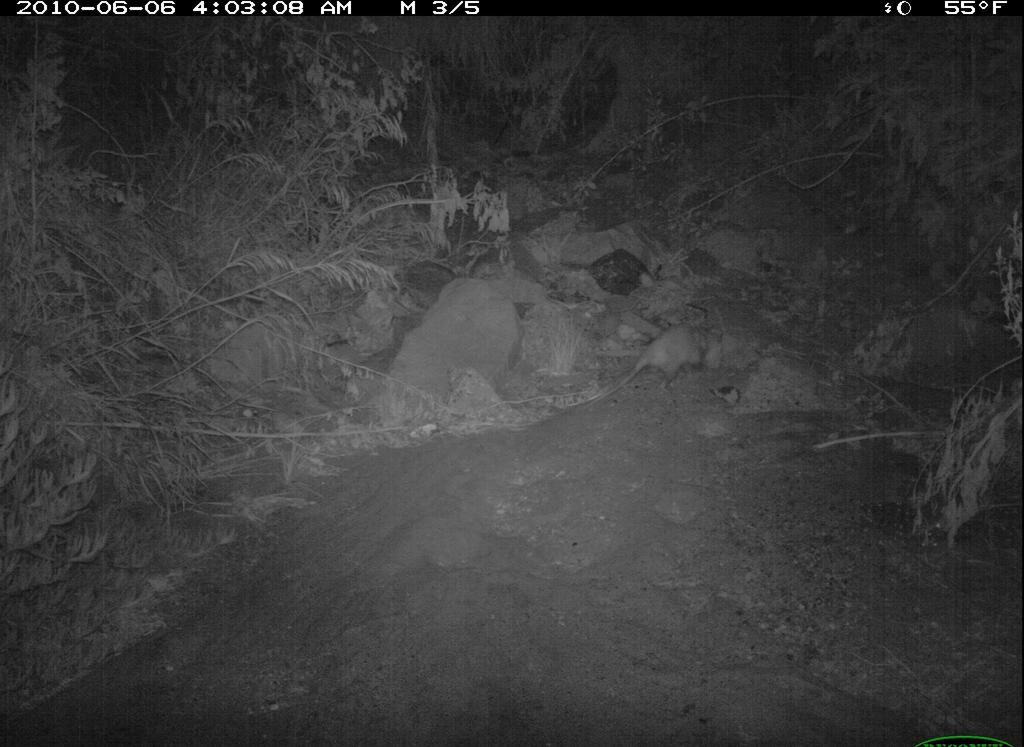opossum: (591, 309, 725, 413)
